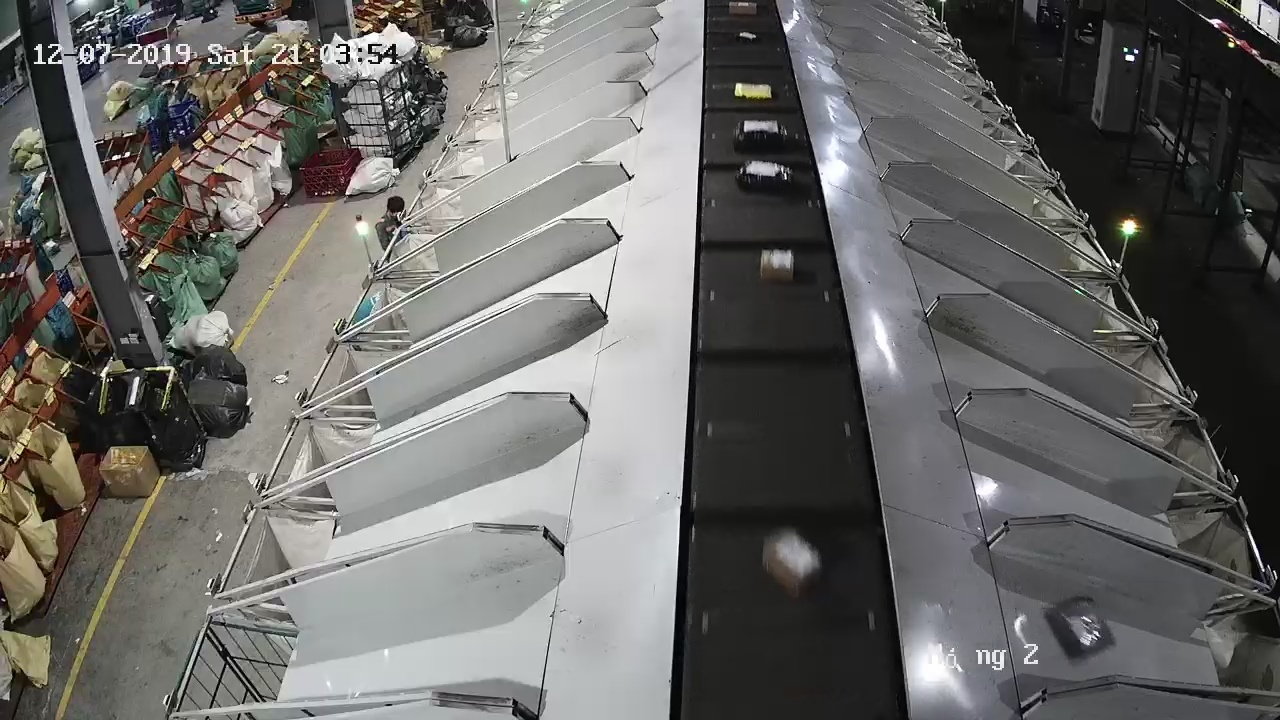parcel: (1043, 594, 1116, 660)
